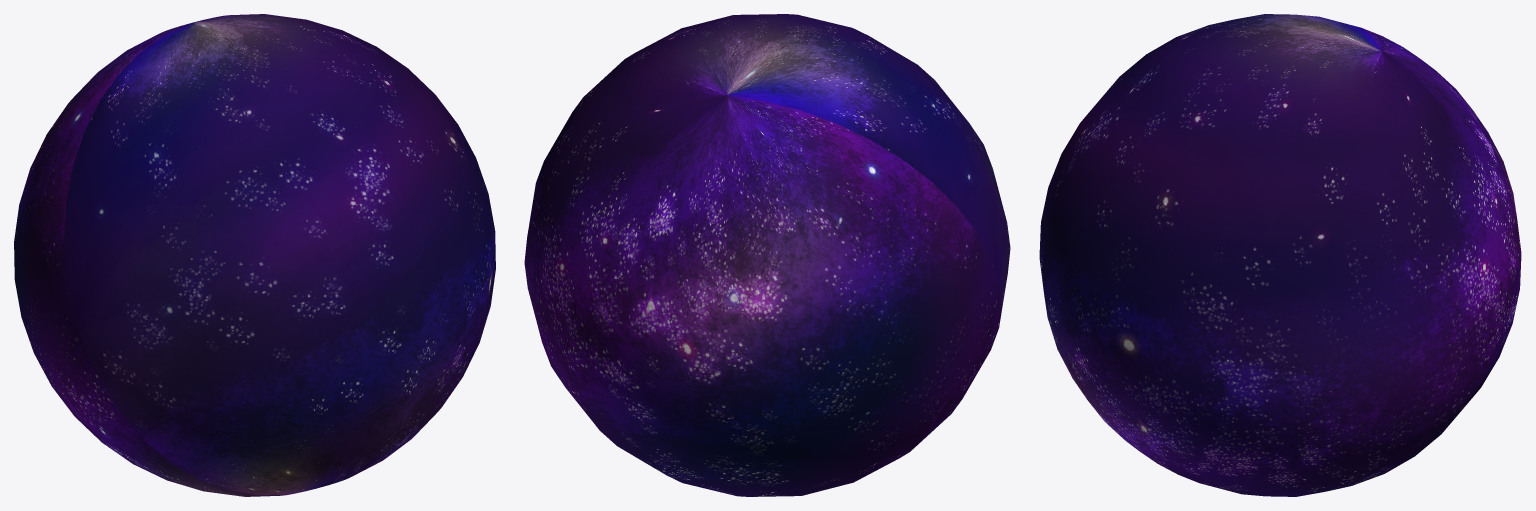
The model's file is Stage.fbx.
3 renders of one model, left to right at view 1: azimuth 30°, elevation 25°; view 2: azimuth 150°, elevation 25°; view 3: azimuth 270°, elevation 25°, orthographic.
Visible parts, largest first — view 1: pSphere1; view 2: pSphere1; view 3: pSphere1.
Part boxes in pixels (left/top/right/bottom): pSphere1: left=14, top=14, right=495, bottom=496; pSphere1: left=524, top=14, right=1010, bottom=496; pSphere1: left=1039, top=14, right=1521, bottom=496.
Bounding box in the file's own units: 3968 × 3994 × 3983.
Materials: 5 (2 with a texture image).
